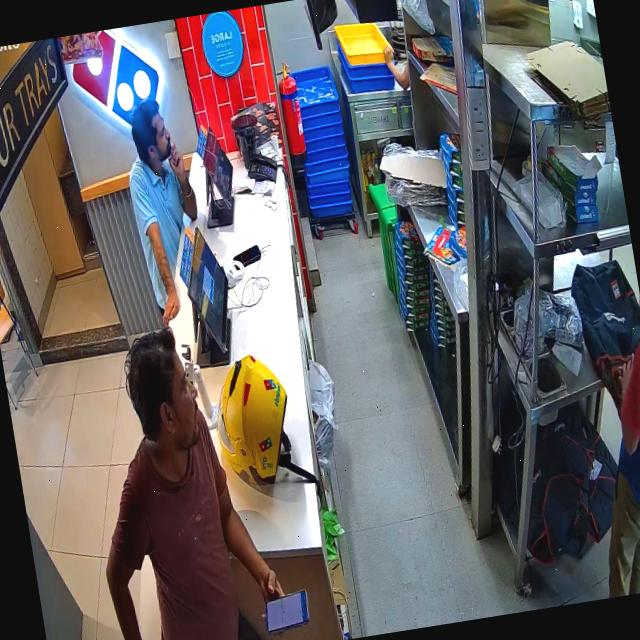helmet: (217, 355, 286, 485)
no_helmet: (126, 326, 200, 455), (131, 97, 172, 174)
